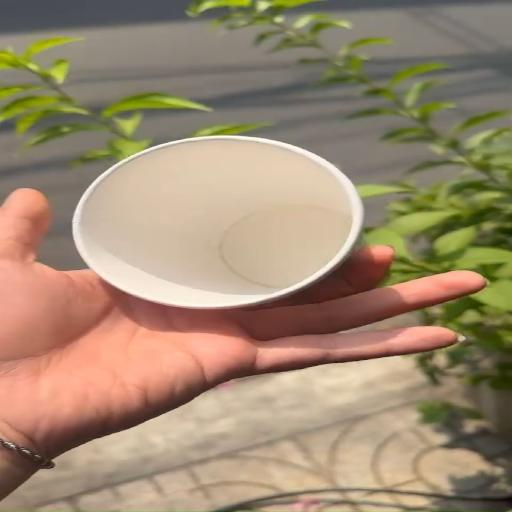Ly_giay: (73, 135, 361, 309)
